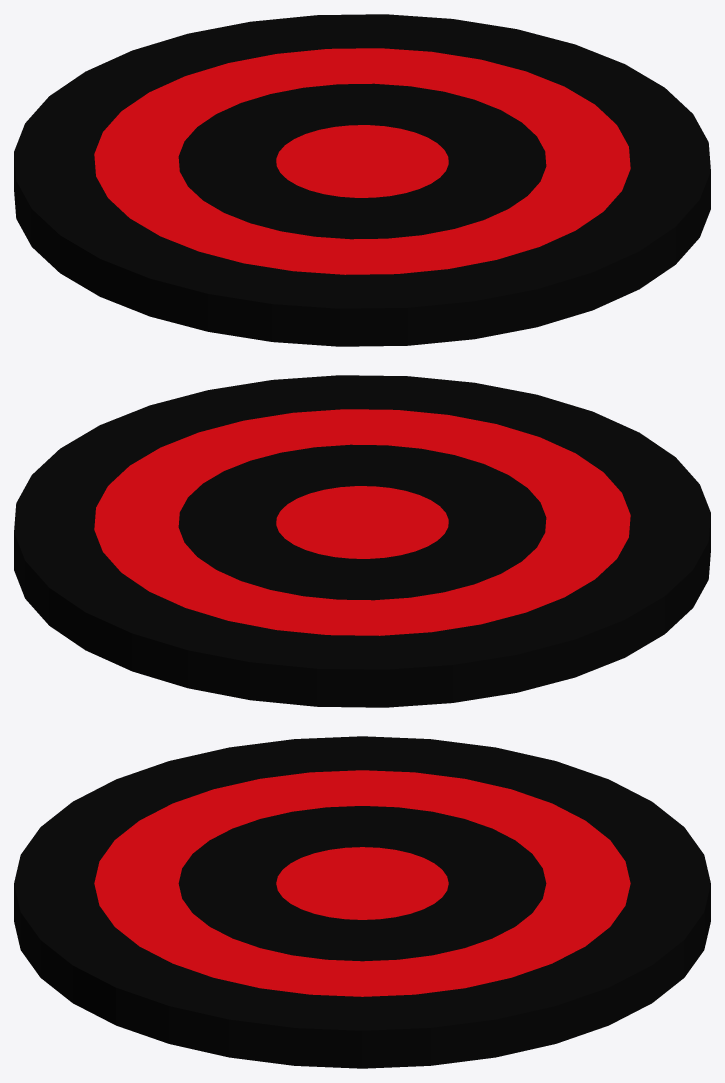
Rendered from target.fbx.
The picture shows the model from 3 angles, top to bottom: view 1: azimuth 30°, elevation 25°; view 2: azimuth 150°, elevation 25°; view 3: azimuth 270°, elevation 25°; orthographic projection.
Parts seen in each view (by area): view 1: Cylindre; view 2: Cylindre; view 3: Cylindre.
Boxes of the visible parts, x1,y1,x2,y2 form: Cylindre: [14, 14, 710, 346]; Cylindre: [14, 375, 710, 707]; Cylindre: [14, 736, 710, 1068].
Bounding box in the file's own units: 200 × 12 × 200.
